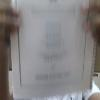notebook: (10, 0, 95, 99)
